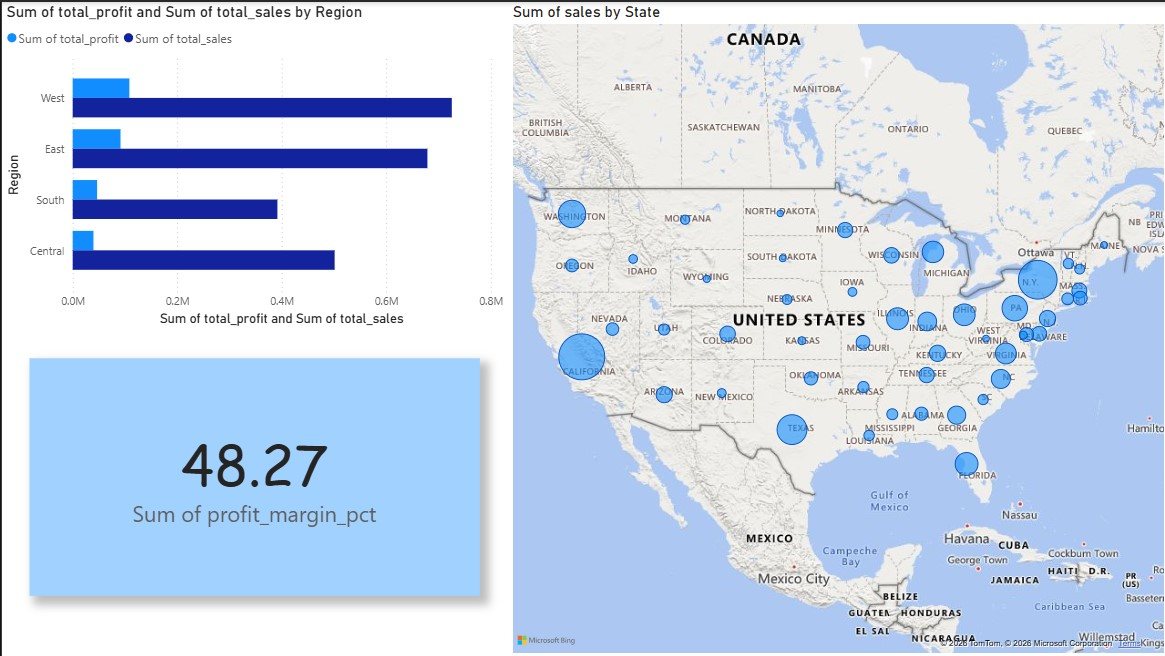

What the dashboard file says about the page in this screenshot:
{"tool":"powerbi","page":{"name":"Page 2","canvas":[1280,720],"ordinal":1},"visuals":[{"type":"clusteredBarChart","fields":{"Category":["RegionalSales.Region"],"Y":["Sum(RegionalSales.total_profit)","Sum(RegionalSales.total_sales)"]},"box":[0,12.3,555.7,360.9],"z":0},{"type":"map","fields":{"Category":["Superstore_FINAL_FIXED.State"],"Size":["Sum(Superstore_FINAL_FIXED.sales)"]},"box":[555.7,0,724.5,720.4],"z":1},{"type":"card","fields":{"Values":["Avg(RegionalSales.profit_margin_pct)"]},"box":[30.2,391.1,494,260.7],"z":2}]}

Visuals, with their boxes in screenshot pixels (x1, y1, x2, y2), scaled from the page's 1280x720 canvas onto the 1165x656 screenshot:
clusteredBarChart - RegionalSales.Region x Sum(RegionalSales.total_profit): 0/11/506/340
map - Superstore_FINAL_FIXED.State x Sum(Superstore_FINAL_FIXED.sales): 506/0/1164/655
card - Avg(RegionalSales.profit_margin_pct): 27/356/477/594
